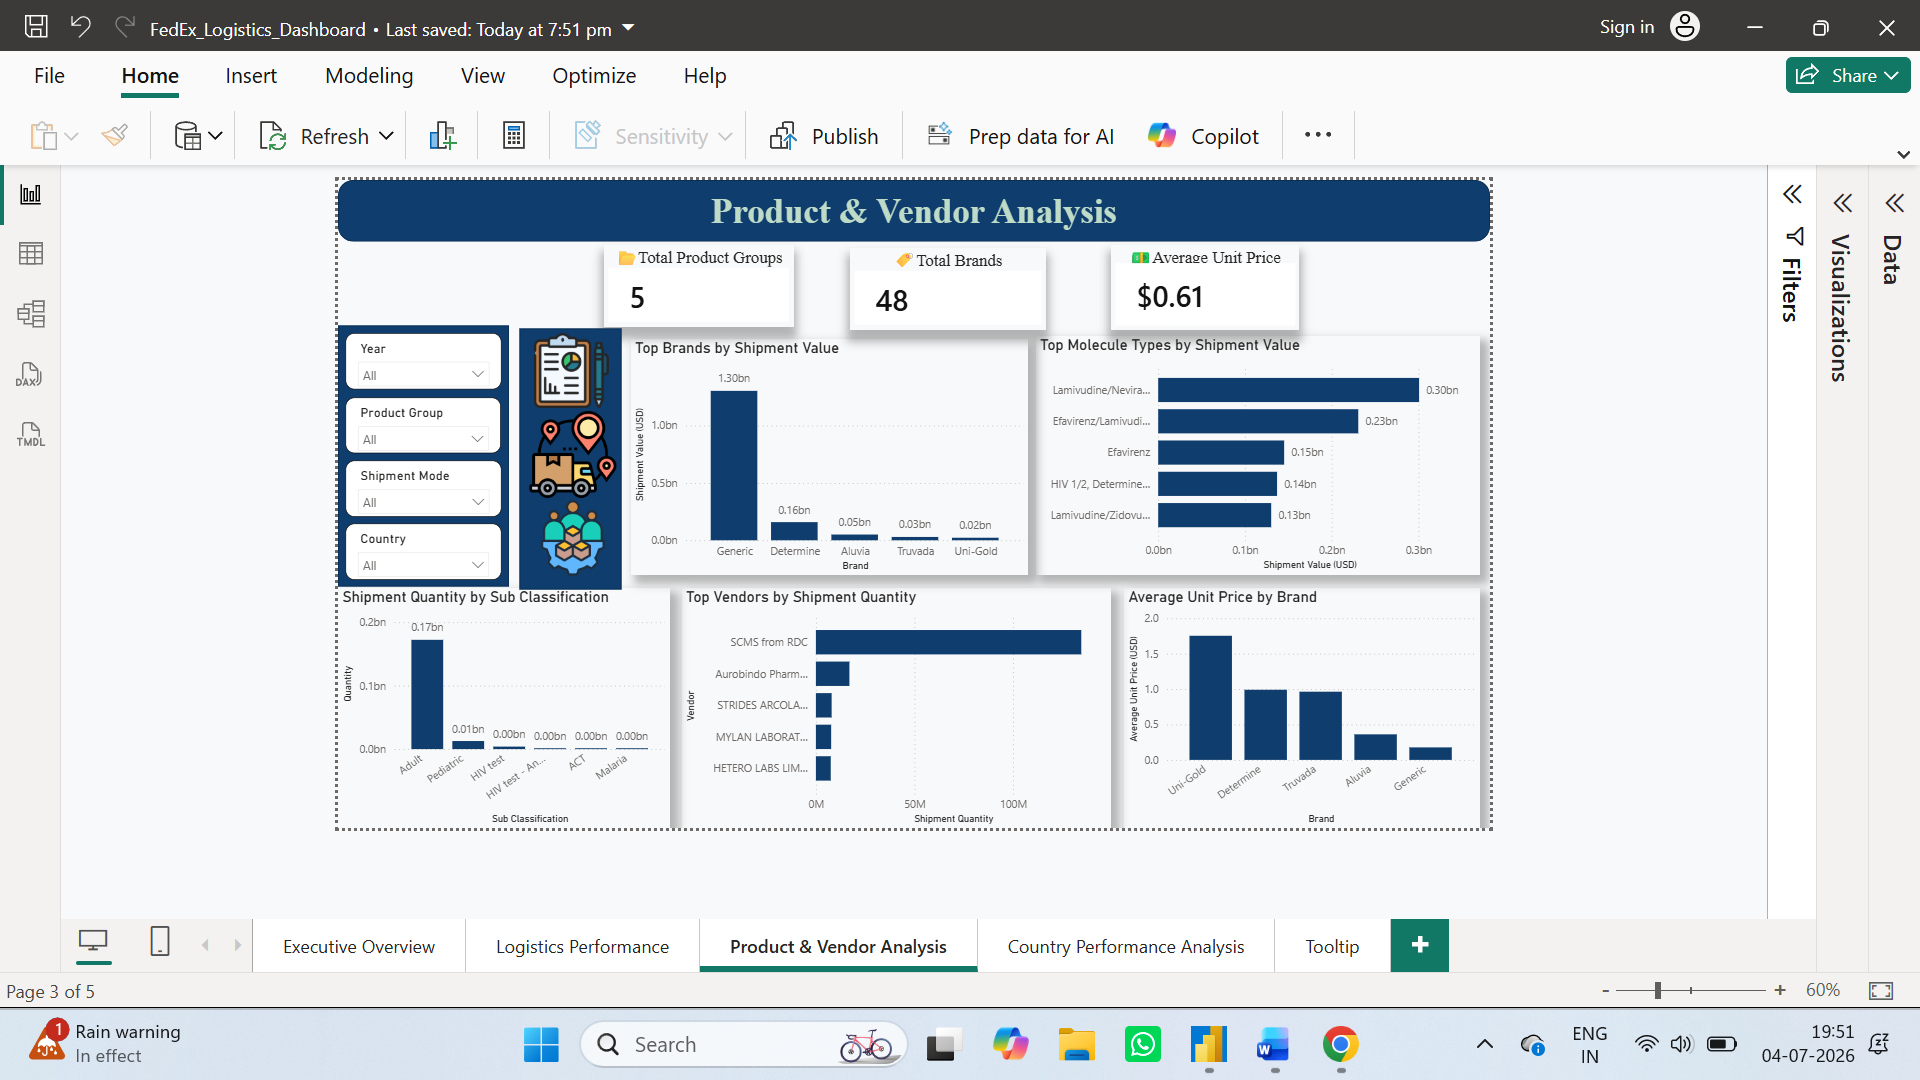

This screenshot's page, from the dashboard's own definition file:
{"tool":"powerbi","page":{"name":"Product & Vendor Analysis","canvas":[1280,720],"ordinal":2},"visuals":[{"type":"shape","box":[0,0,1280,68.5],"z":0},{"type":"shape","box":[0,162,190,290],"z":0,"group":"g1"},{"type":"shape","box":[201.7,165,113.3,290],"z":0,"group":"g2"},{"type":"cardVisual","title":"📂Total Product Groups","fields":{"Data":["Count(SCMS_Cleaned.Product Group)"]},"box":[295,71.7,211.7,91.7],"z":1000},{"type":"cardVisual","title":"🏷️Total Brands","fields":{"Data":["Count(SCMS_Cleaned.Brand)"]},"box":[568.3,75,218.3,91.7],"z":2000},{"type":"cardVisual","title":"💵Average Unit Price","fields":{"Data":["Avg(SCMS_Cleaned.Unit Price)"]},"box":[858.3,71.7,210,95],"z":3000},{"type":"group","id":"g1","title":"Group 1","box":[0,162,190,290],"z":4000},{"type":"columnChart","title":"Top Brands by Shipment Value","fields":{"Category":["SCMS_Cleaned.Brand"],"Y":["Sum(SCMS_Cleaned.Line Item Value)"]},"box":[324.6,176.2,442.3,262.3],"z":5000},{"type":"barChart","title":"Top Molecule Types by Shipment Value","fields":{"Y":["Sum(SCMS_Cleaned.Line Item Value)"],"Category":["SCMS_Cleaned.Molecule/Test Type"]},"box":[775,173.3,493.3,265],"z":6000},{"type":"columnChart","title":"Shipment Quantity by Sub Classification","fields":{"Category":["SCMS_Cleaned.Sub Classification"],"Y":["Sum(SCMS_Cleaned.Line Item Quantity)"]},"box":[0,453.3,368.3,266.7],"z":7000},{"type":"slicer","fields":{"Values":["SCMS_Cleaned.Country"]},"box":[8,382,173.2,62.8],"z":8000,"group":"g1"},{"type":"barChart","title":"Top Vendors by Shipment Quantity","fields":{"Category":["SCMS_Cleaned.Vendor"],"Y":["Sum(SCMS_Cleaned.Line Item Quantity)"]},"box":[381.7,453.3,476.7,266.7],"z":8000},{"type":"slicer","fields":{"Values":["Calendar.Year"]},"box":[8.3,170.3,173.3,62.5],"z":9000,"group":"g1"},{"type":"image","box":[206.7,256.7,108.3,96.7],"z":9000,"group":"g2"},{"type":"clusteredColumnChart","title":"Average Unit Price by Brand","fields":{"Category":["SCMS_Cleaned.Brand"],"Y":["Avg(SCMS_Cleaned.Unit Price)"]},"box":[873.3,453.3,395,266.7],"z":9000},{"type":"group","id":"g2","title":"Group 3","box":[201.7,165,113.3,290],"z":10000},{"type":"image","box":[211.7,170,95,83.3],"z":10000,"group":"g2"},{"type":"slicer","fields":{"Values":["SCMS_Cleaned.Shipment Mode"]},"box":[8,312.4,173.6,62.4],"z":11000,"group":"g1"},{"type":"image","box":[206.7,350,108.3,95],"z":11000,"group":"g2"},{"type":"slicer","fields":{"Values":["SCMS_Cleaned.Product Group"]},"box":[8,242.8,172.8,62],"z":12000,"group":"g1"}]}

Visuals, with their boxes on the page's 1280x720 design canvas (x1, y1, x2, y2). These are canvas units, not pixel positions in the 1920x1080 screenshot, which may show the page scaled, cropped or inside an application window:
shape: pyautogui.locateOnScreen(0, 0, 1280, 68)
shape: pyautogui.locateOnScreen(0, 162, 190, 452)
shape: pyautogui.locateOnScreen(202, 165, 315, 455)
"📂Total Product Groups" cardVisual: pyautogui.locateOnScreen(295, 72, 507, 163)
"🏷️Total Brands" cardVisual: pyautogui.locateOnScreen(568, 75, 787, 167)
"💵Average Unit Price" cardVisual: pyautogui.locateOnScreen(858, 72, 1068, 167)
"Group 1" group: pyautogui.locateOnScreen(0, 162, 190, 452)
"Top Brands by Shipment Value" columnChart: pyautogui.locateOnScreen(325, 176, 767, 438)
"Top Molecule Types by Shipment Value" barChart: pyautogui.locateOnScreen(775, 173, 1268, 438)
"Shipment Quantity by Sub Classification" columnChart: pyautogui.locateOnScreen(0, 453, 368, 720)
slicer - SCMS_Cleaned.Country: pyautogui.locateOnScreen(8, 382, 181, 445)
"Top Vendors by Shipment Quantity" barChart: pyautogui.locateOnScreen(382, 453, 858, 720)
slicer - Calendar.Year: pyautogui.locateOnScreen(8, 170, 182, 233)
image: pyautogui.locateOnScreen(207, 257, 315, 353)
"Average Unit Price by Brand" clusteredColumnChart: pyautogui.locateOnScreen(873, 453, 1268, 720)
"Group 3" group: pyautogui.locateOnScreen(202, 165, 315, 455)
image: pyautogui.locateOnScreen(212, 170, 307, 253)
slicer - SCMS_Cleaned.Shipment Mode: pyautogui.locateOnScreen(8, 312, 182, 375)
image: pyautogui.locateOnScreen(207, 350, 315, 445)
slicer - SCMS_Cleaned.Product Group: pyautogui.locateOnScreen(8, 243, 181, 305)
